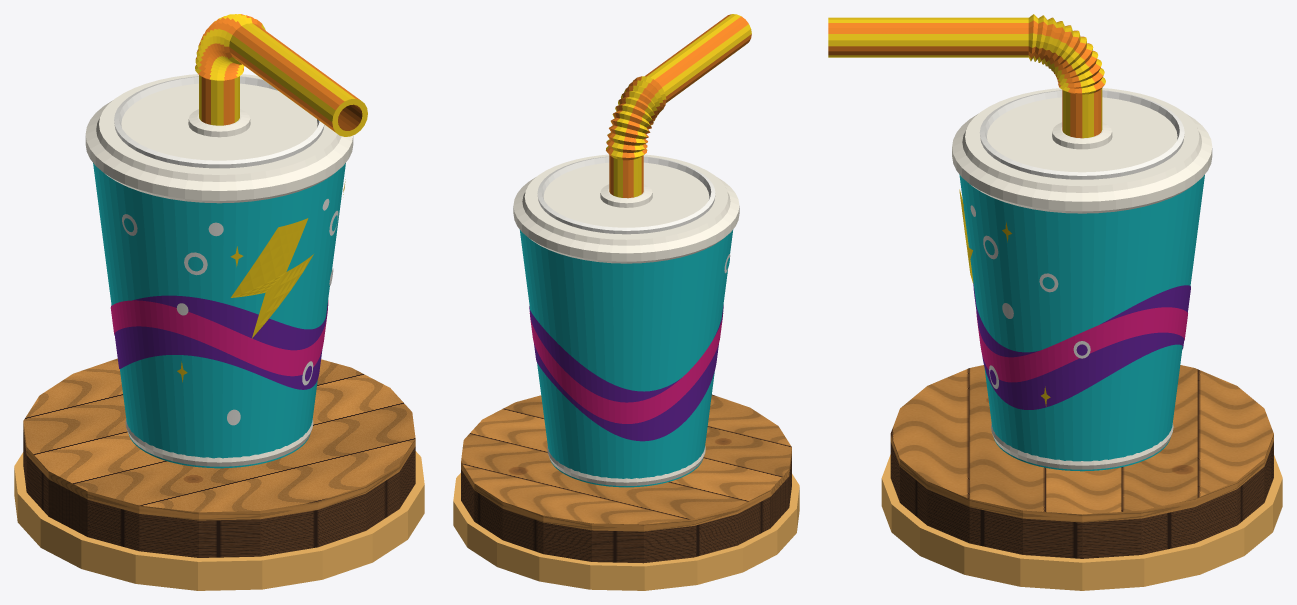
File: Soda.glb
3 views of the same model, side by side, from view 1: azimuth 30°, elevation 25°; view 2: azimuth 150°, elevation 25°; view 3: azimuth 270°, elevation 25° (orthographic). The views are drawn at different scales.
Parts seen in each view (by area): view 1: pedestal, Tapered turquoise soda cup, Snap-on lid, rim, Hollow 90 degree bendy straw cannon, Grape wave, Pink fizz wave, Citrus lightning splash, Lid concentric ridge, Bottom rolled seam, Straw socket; view 2: pedestal, Tapered turquoise soda cup, Snap-on lid, rim, Hollow 90 degree bendy straw cannon, Grape wave, Pink fizz wave, Lid concentric ridge, Bottom rolled seam, Straw socket; view 3: pedestal, Tapered turquoise soda cup, Snap-on lid, rim, Hollow 90 degree bendy straw cannon, Grape wave, Pink fizz wave, Lid concentric ridge, Bottom rolled seam, Straw socket.
Boxes of the visible parts, x1,y1,x2,y2 form: pedestal: [23, 358, 415, 557]; Tapered turquoise soda cup: [93, 163, 345, 468]; Snap-on lid: [85, 74, 353, 203]; rim: [14, 451, 424, 590]; Hollow 90 degree bendy straw cannon: [195, 14, 367, 136]; Grape wave: [111, 295, 327, 389]; Pink fizz wave: [110, 300, 328, 376]; Citrus lightning splash: [231, 218, 313, 338]; Lid concentric ridge: [114, 76, 324, 168]; Bottom rolled seam: [125, 419, 313, 466]; Straw socket: [188, 109, 250, 137]; pedestal: [461, 394, 791, 563]; Tapered turquoise soda cup: [519, 229, 733, 487]; Snap-on lid: [513, 154, 739, 263]; rim: [453, 473, 799, 590]; Hollow 90 degree bendy straw cannon: [606, 14, 751, 198]; Grape wave: [529, 305, 723, 441]; Pink fizz wave: [529, 313, 723, 423]; Lid concentric ridge: [537, 156, 715, 234]; Bottom rolled seam: [547, 446, 705, 485]; Straw socket: [600, 184, 652, 207]; pedestal: [890, 365, 1273, 558]; Tapered turquoise soda cup: [959, 174, 1204, 471]; Snap-on lid: [952, 88, 1212, 213]; rim: [881, 454, 1282, 590]; Hollow 90 degree bendy straw cannon: [828, 14, 1105, 138]; Grape wave: [973, 283, 1190, 409]; Pink fizz wave: [976, 307, 1187, 382]; Lid concentric ridge: [979, 90, 1184, 179]; Bottom rolled seam: [991, 423, 1173, 469]; Straw socket: [1052, 122, 1112, 149].
Size of the model in its own units: 0.9 by 1.21 by 1.02.
11 materials, 2 textured.
